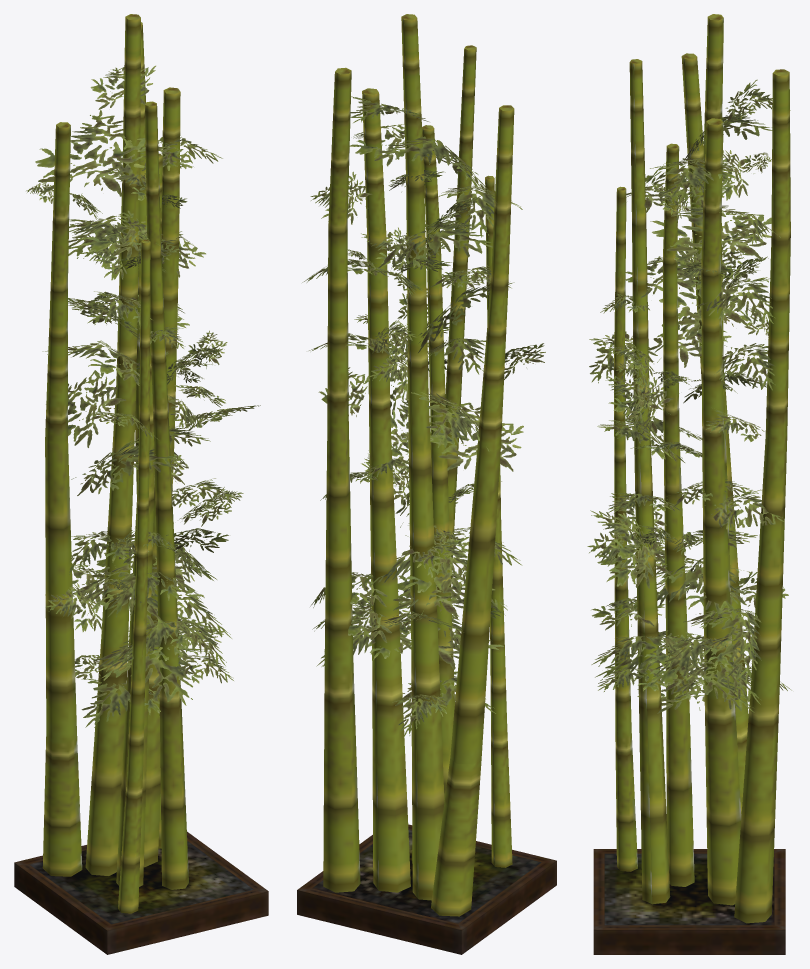
The model's file is plantpottedbamboo_root_rot_gmdc.obj.
The picture shows the model from 3 angles, left to right: view 1: azimuth 30°, elevation 25°; view 2: azimuth 150°, elevation 25°; view 3: azimuth 270°, elevation 25°; orthographic projection. The views are drawn at different scales.
Parts seen in each view (by area): view 1: plantpottedbamboo_surface; view 2: plantpottedbamboo_surface; view 3: plantpottedbamboo_surface.
Boxes of the visible parts, box(x1,y1,x2,y2) form: plantpottedbamboo_surface: box(14, 14, 268, 954); plantpottedbamboo_surface: box(297, 14, 556, 954); plantpottedbamboo_surface: box(587, 14, 791, 954).
Bounding box in the file's own units: 0.9423 × 4.48 × 0.95.
Materials: 1 (1 with a texture image).
